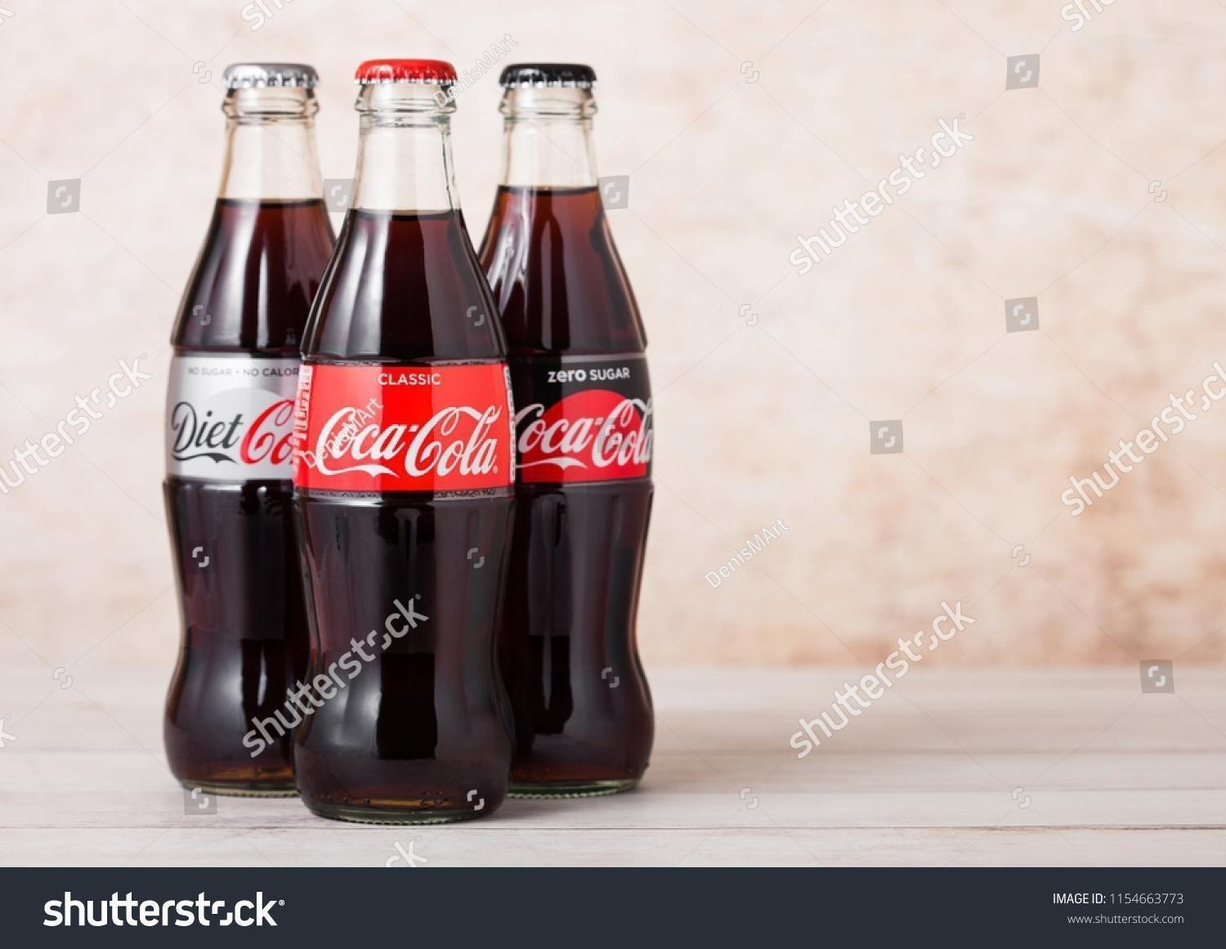bottle-glass: (285, 48, 526, 831), (459, 56, 666, 807), (154, 54, 357, 805)
